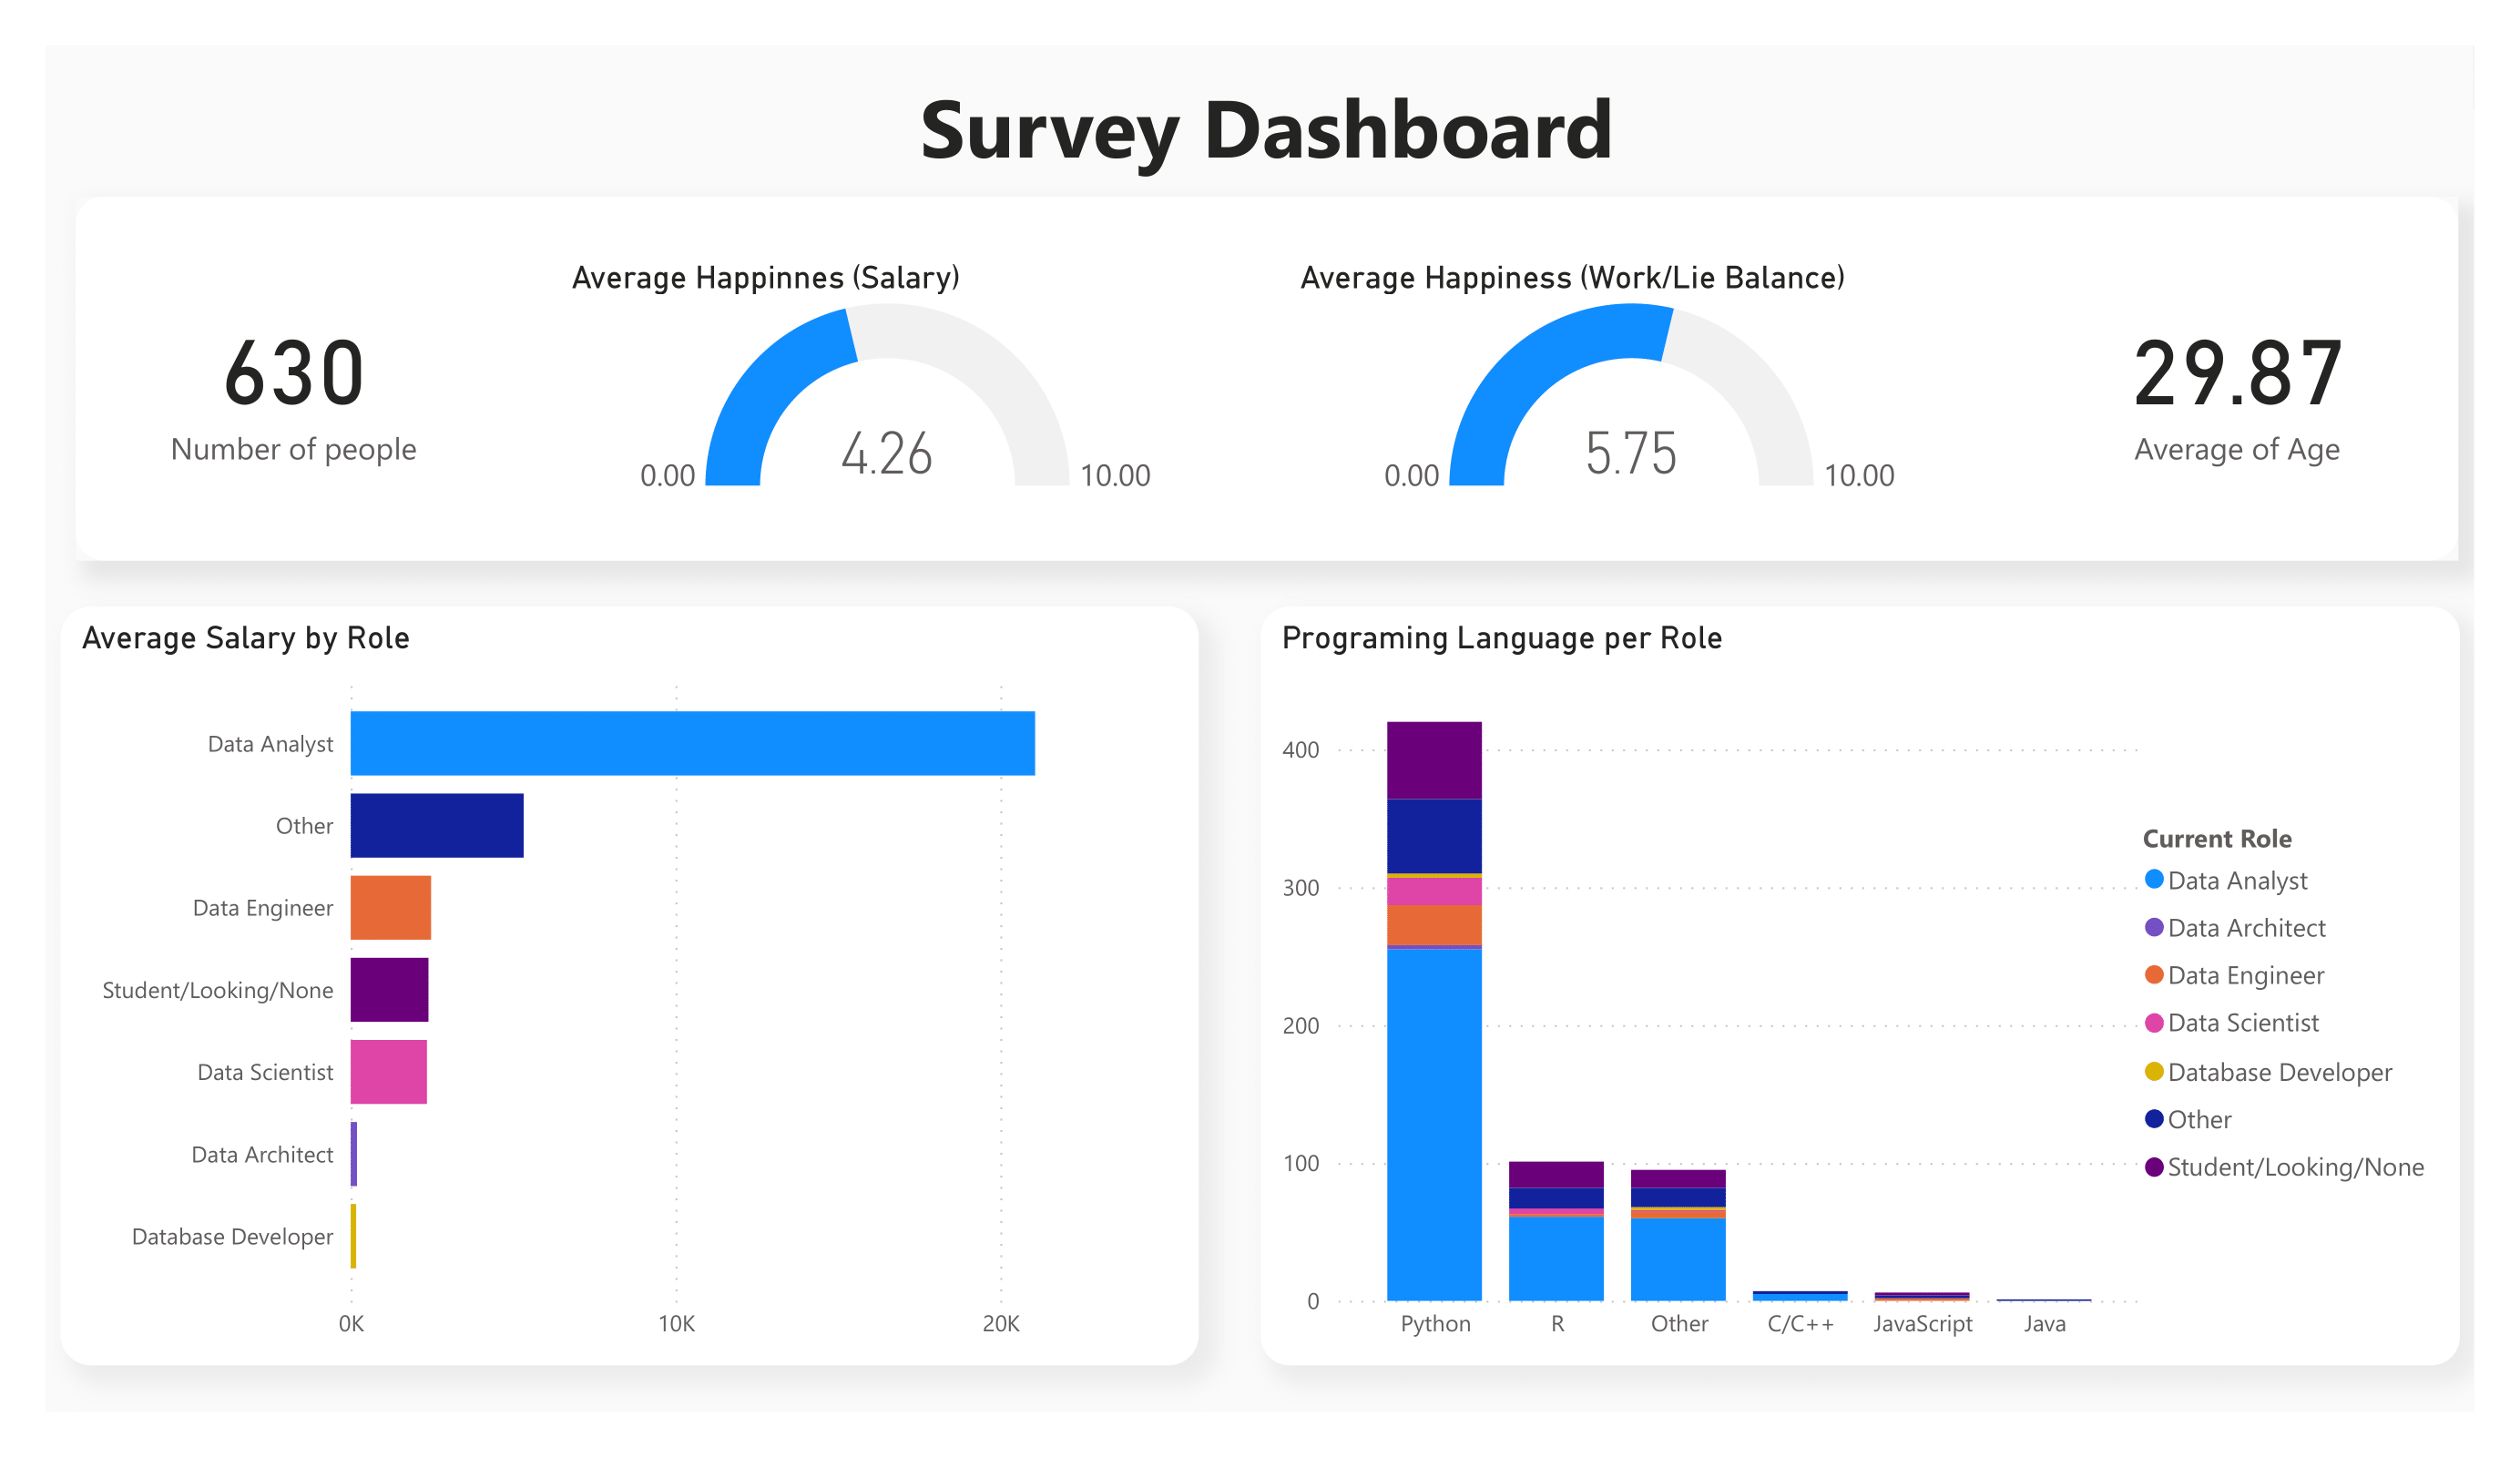

The dashboard page shown, as its layout file describes it:
{"tool":"powerbi","page":{"name":"Page 1","canvas":[1280,720],"ordinal":0},"visuals":[{"type":"shape","box":[16,80,1256,192],"z":0},{"type":"textbox","box":[448,8,392,72],"z":1000},{"type":"card","fields":{"Values":["Count(Data Professional Survey.Unique ID)"]},"box":[16,111.9,230,130],"z":2000},{"type":"card","fields":{"Values":["Avg(Data Professional Survey.Age)"]},"box":[1040,111.9,230,130],"z":3000},{"type":"gauge","title":"Average Happinnes (Salary)","fields":{"Y":["Avg(Data Professional Survey.Happiness level (Salary))"],"MinValue":["Min(Data Professional Survey.Happiness level (Salary))1"],"MaxValue":["Max(Data Professional Survey.Happiness level (Salary))2"]},"box":[272,111.9,352,130],"z":4000},{"type":"gauge","title":"Average Happiness (Work/Lie Balance)","fields":{"Y":["Avg(Data Professional Survey.Happiness level (Work/Life Balance))"],"MinValue":["Min(Data Professional Survey.Happiness level (Work/Life Balance))"],"MaxValue":["Max(Data Professional Survey.Happiness level (Work/Life Balance))"]},"box":[656,111.9,368,130],"z":5000},{"type":"barChart","title":"Average Salary by Role","fields":{"Y":["Sum(Data Professional Survey.Average Salary)"],"Category":["Data Professional Survey.Current Role"],"Series":["Data Professional Survey.Current Role"]},"box":[8,296,600,400],"z":6000},{"type":"columnChart","title":"Programing Language per Role","fields":{"Category":["Data Professional Survey.Programming Language"],"Y":["CountNonNull(Data Professional Survey.Current Role)"],"Series":["Data Professional Survey.Current Role"]},"box":[640,296,632,400],"z":7000}]}

Visuals, with their boxes in screenshot pixels (x1, y1, x2, y2):
shape: [76, 198, 2459, 562]
textbox: [895, 61, 1639, 198]
card - Count(Data Professional Survey.Unique ID): [76, 258, 513, 504]
card - Avg(Data Professional Survey.Age): [2019, 258, 2455, 504]
"Average Happinnes (Salary)" gauge: [562, 258, 1229, 504]
"Average Happiness (Work/Lie Balance)" gauge: [1291, 258, 1989, 504]
"Average Salary by Role" barChart: [61, 607, 1199, 1366]
"Programing Language per Role" columnChart: [1260, 607, 2459, 1366]
